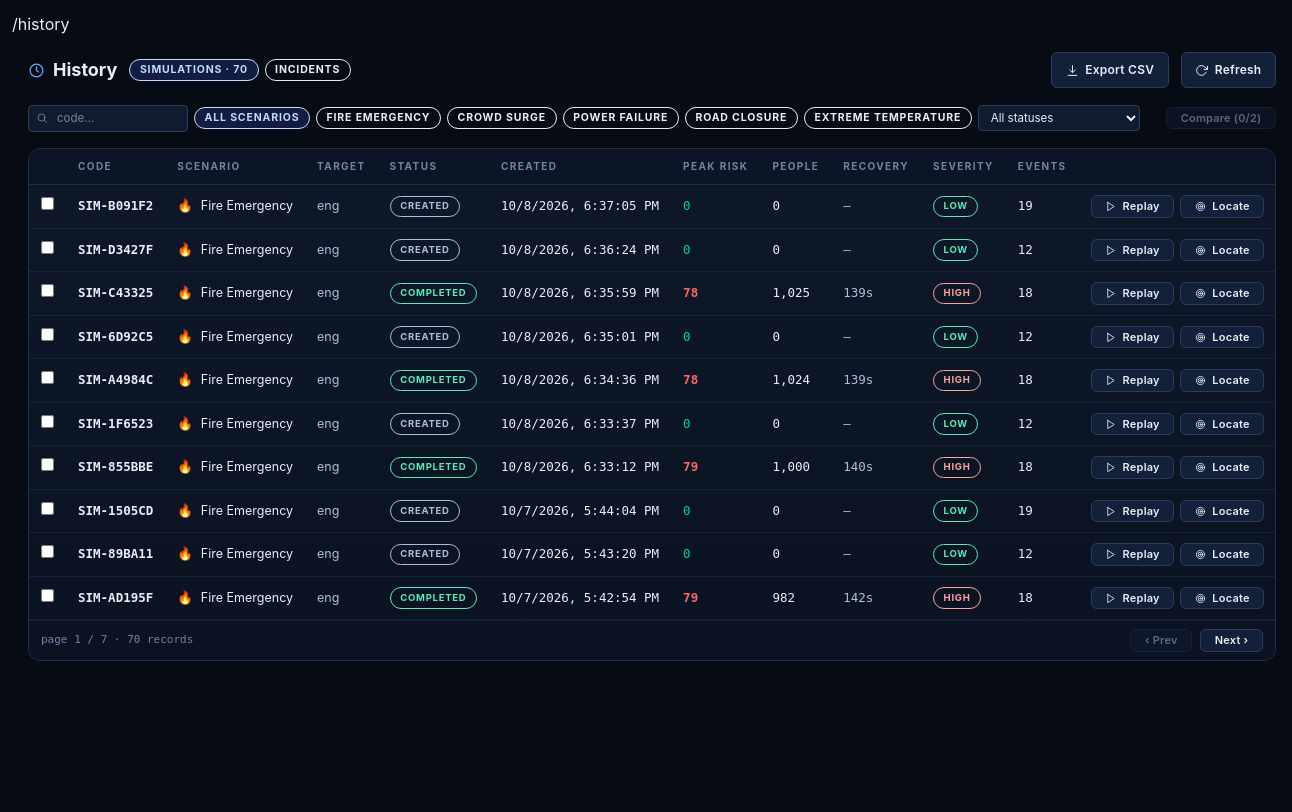
Test: History §62 — incidents tab › switches tabs via URL state and paginates incidents
Click the button with test id "tab-incidents" at (308, 70), box [264,59,351,81]
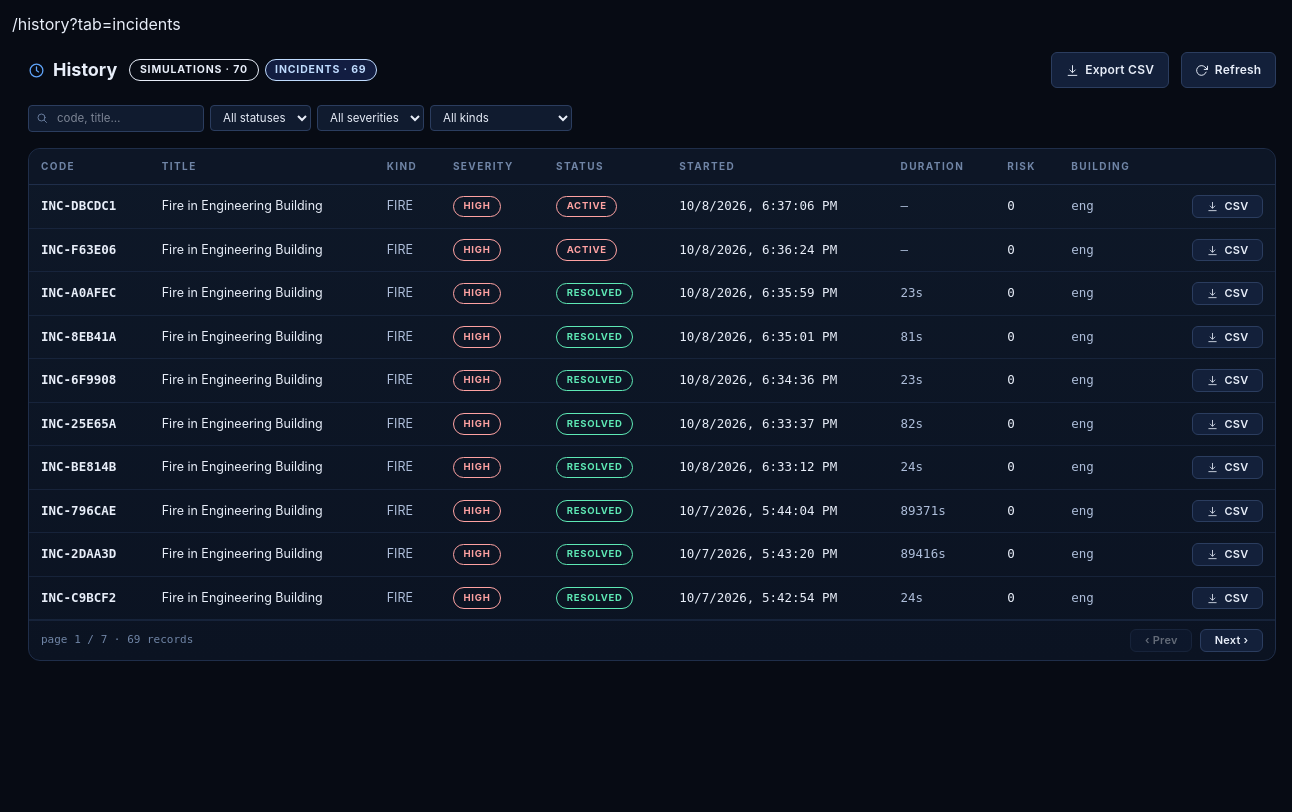
Now the text with test id "loc" shows "tab=incidents", box [12,14,181,34]
